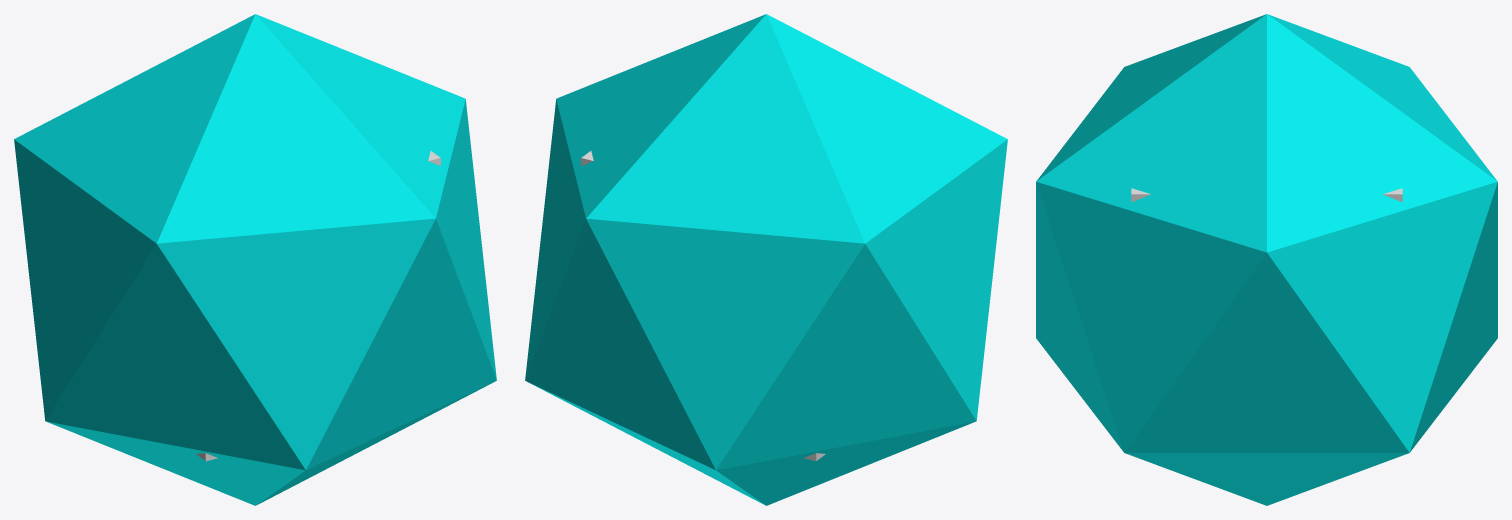
The picture shows the model from 3 angles, left to right: view 1: azimuth 30°, elevation 25°; view 2: azimuth 150°, elevation 25°; view 3: azimuth 270°, elevation 25°; orthographic projection.
Visible parts, largest first — view 1: ICO球; view 2: ICO球; view 3: ICO球.
Boxes of the visible parts, x1,y1,x2,y2 form: ICO球: (14, 14, 496, 505); ICO球: (525, 14, 1007, 505); ICO球: (1036, 14, 1497, 505).
Bounding box in the file's own units: 35.78 × 40 × 34.03.
